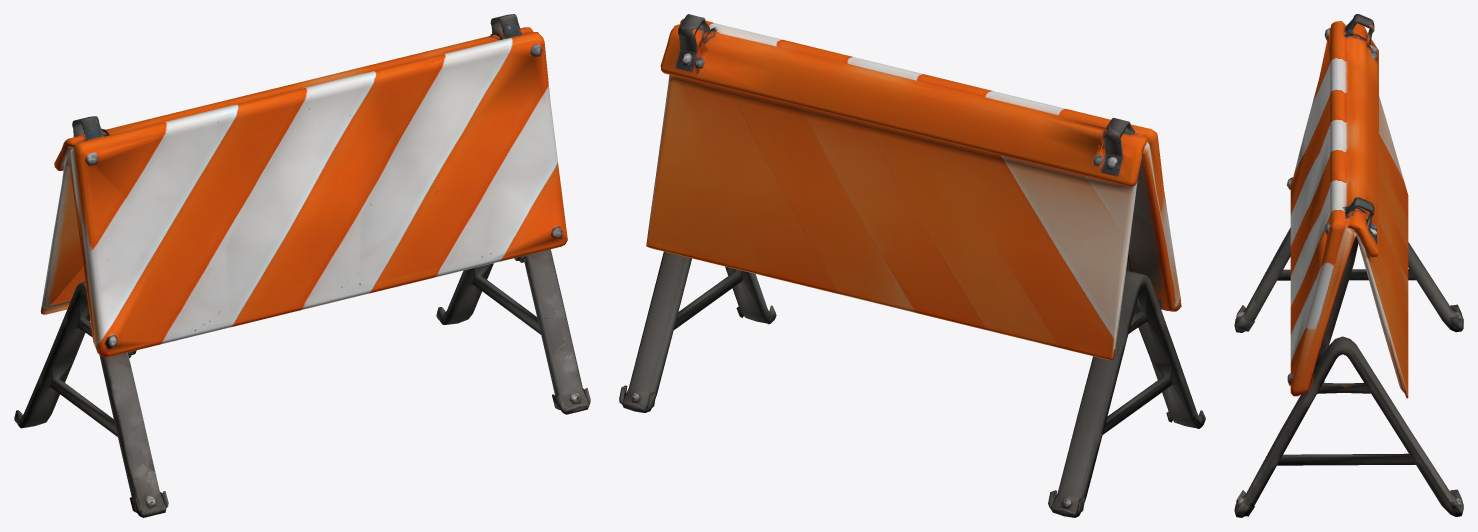
Rendered from barrier.glb.
3 renders of one model, left to right at view 1: azimuth 30°, elevation 25°; view 2: azimuth 150°, elevation 25°; view 3: azimuth 270°, elevation 25°, orthographic. The views are drawn at different scales.
Parts seen in each view (by area): view 1: tripo_node_774b8390-edfc-490e-82e6-9ae28ed94c52; view 2: tripo_node_774b8390-edfc-490e-82e6-9ae28ed94c52; view 3: tripo_node_774b8390-edfc-490e-82e6-9ae28ed94c52.
Part boxes in pixels (x1,y1,x2,y2): tripo_node_774b8390-edfc-490e-82e6-9ae28ed94c52: (14,14,590,517); tripo_node_774b8390-edfc-490e-82e6-9ae28ed94c52: (619,14,1205,517); tripo_node_774b8390-edfc-490e-82e6-9ae28ed94c52: (1234,14,1463,517).
Bounding box in the file's own units: 0.9775 × 0.6943 × 0.461.
Materials: 1 (1 with a texture image).
